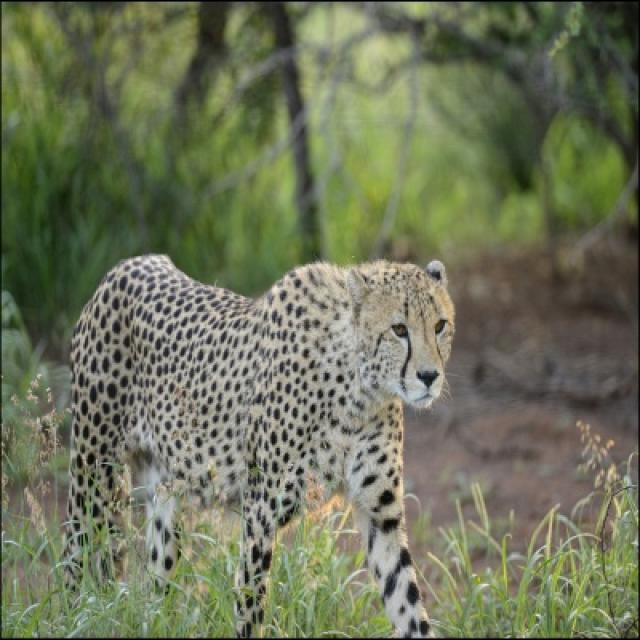Cheetah: (65, 250, 453, 634)
